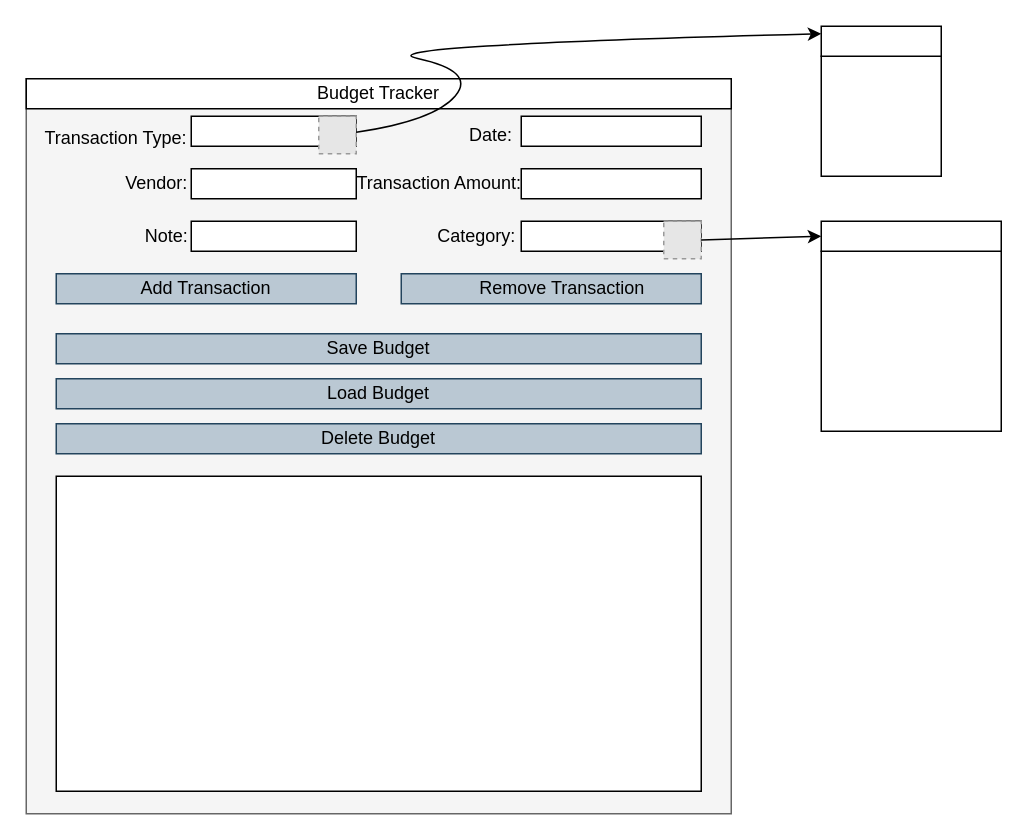
Some shapes in this 1028 by 840 pixel diagram are drawn without their labels. Grey dashed boxes stand in for pictures. Here are the shapes that lost their labels. From the top down, the centre of each, then its label:
At [880,115]: "Income Expense".
At [910,340]: "Utilities Income Gas Entertainment Rent/Housing Groceries Other".
